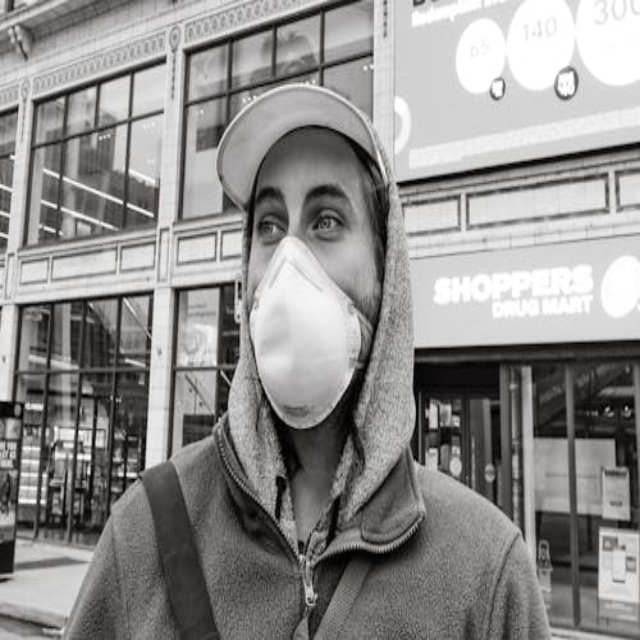Mascara: (248, 235, 364, 428)
Sin_gafas: (248, 181, 352, 240)
